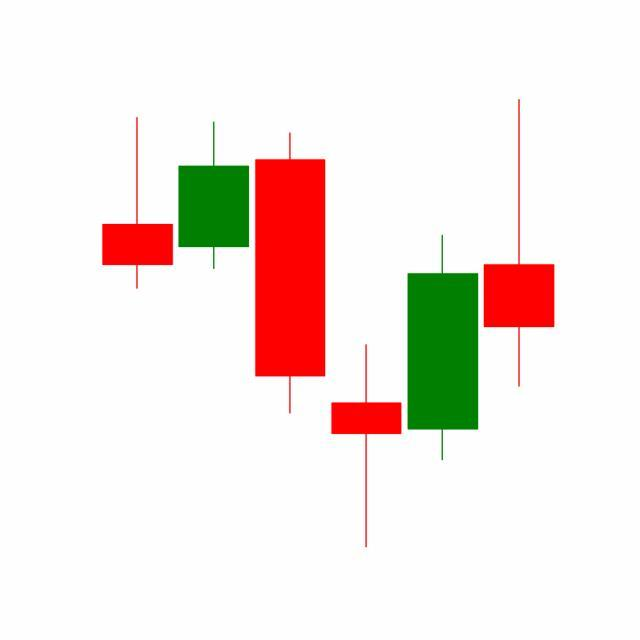Morning Star: (252, 128, 482, 548)
